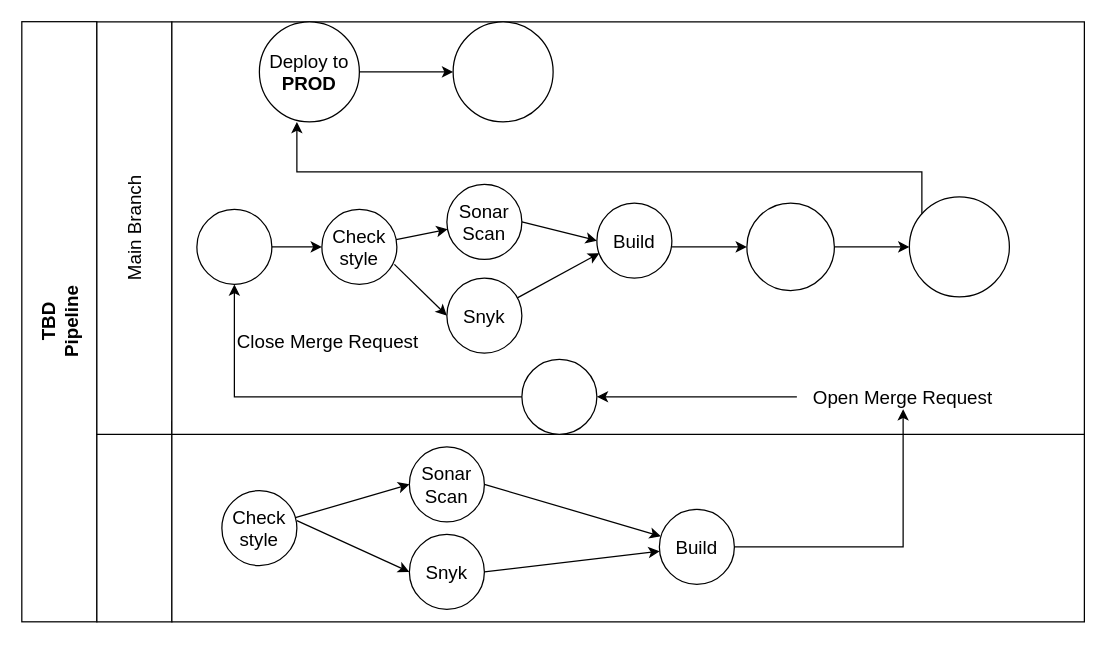
Image size: 1108x645. Some labels were removed from this diagram. Each missing label, with the centre of its shape:
"Automation Tests" goes at point (958, 246).
"Deploy to DEV" goes at point (559, 396).
"Deploy to TEST" goes at point (790, 246).
"Feature/Bugfix Branch" goes at point (134, 527).
"Notification" goes at point (502, 71).
"Push" goes at point (234, 246).
